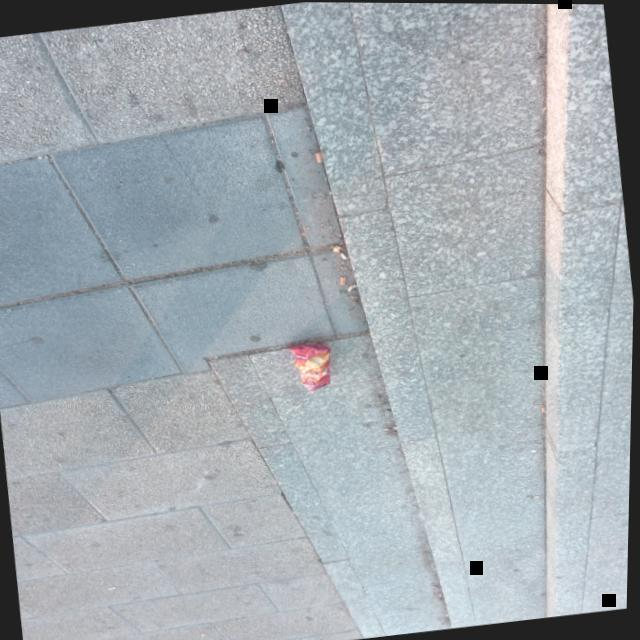Cigarette: (316, 151, 323, 161), (340, 251, 348, 258), (340, 276, 346, 284), (203, 632, 208, 636), (543, 406, 547, 411), (434, 584, 440, 587), (533, 494, 541, 496), (441, 592, 444, 595)
Crisp packet: (287, 342, 332, 391)
